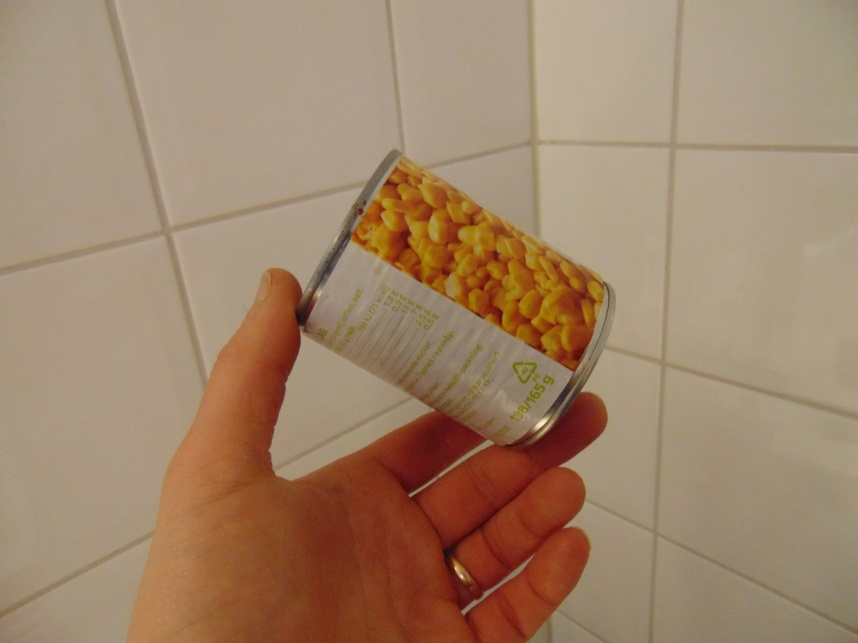metal_can: (292, 149, 620, 453)
